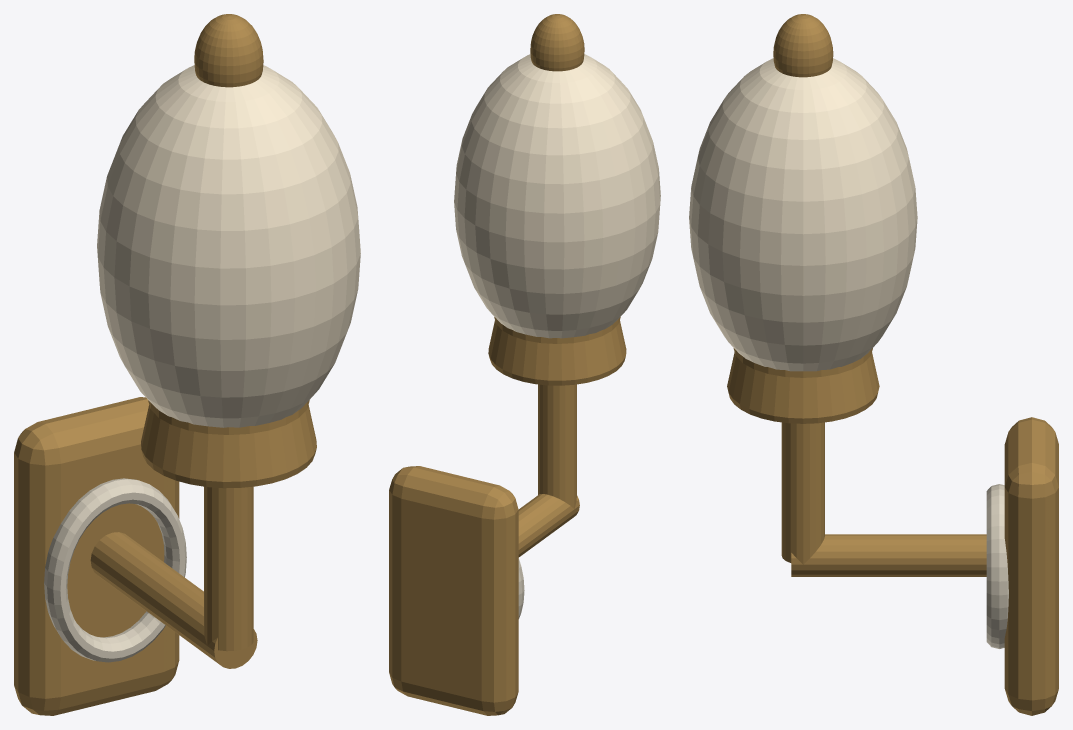
The model's file is bathroom_sconce.glb.
The picture shows the model from 3 angles, left to right: view 1: azimuth 30°, elevation 25°; view 2: azimuth 150°, elevation 25°; view 3: azimuth 270°, elevation 25°; orthographic projection. The views are drawn at different scales.
Parts seen in each view (by area): view 1: bathroom_sconce; view 2: bathroom_sconce; view 3: bathroom_sconce.
Boxes of the visible parts, x1,y1,x2,y2 form: bathroom_sconce: (14,14,360,715); bathroom_sconce: (389,14,660,715); bathroom_sconce: (689,14,1058,715).
Size of the model in its own units: 0.19 by 0.62 by 0.3075.
